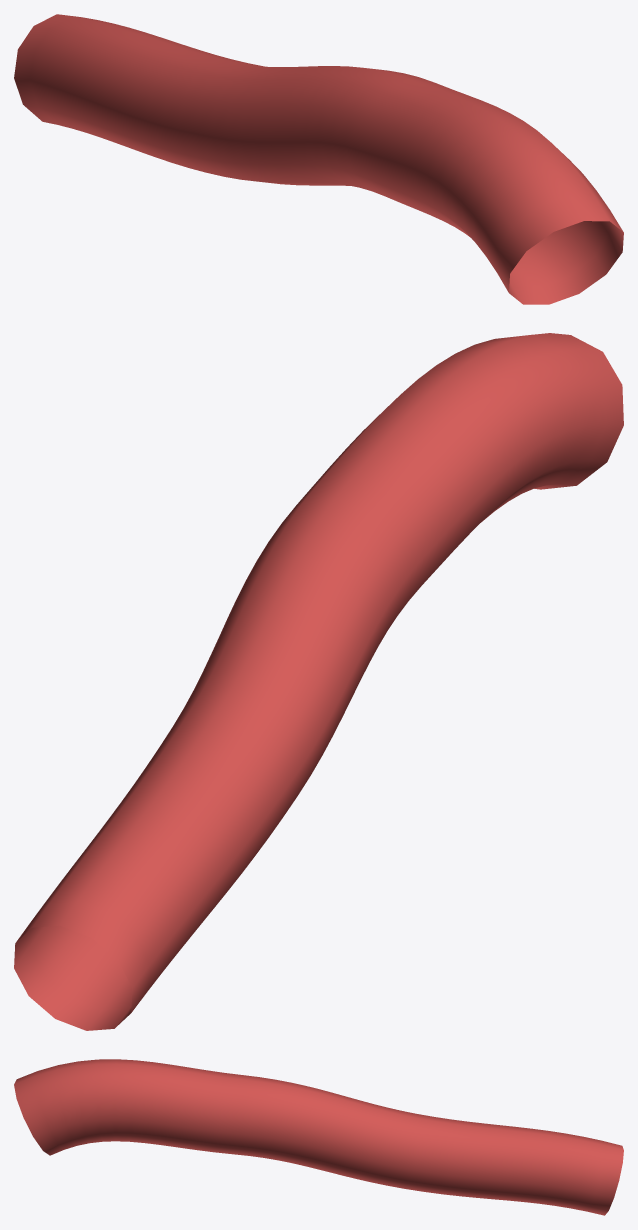
The picture shows the model from 3 angles, top to bottom: view 1: azimuth 30°, elevation 25°; view 2: azimuth 150°, elevation 25°; view 3: azimuth 270°, elevation 25°; orthographic projection. The views are drawn at different scales.
Visible parts, largest first — view 1: 胸主动脉; view 2: 胸主动脉; view 3: 胸主动脉.
Part boxes in pixels (<box>): 胸主动脉: <box>14,14,623,304</box>; 胸主动脉: <box>14,333,623,1030</box>; 胸主动脉: <box>14,1059,623,1215</box>.
Bounding box in the file's own units: 0.0465 × 0.0713 × 0.2363.
